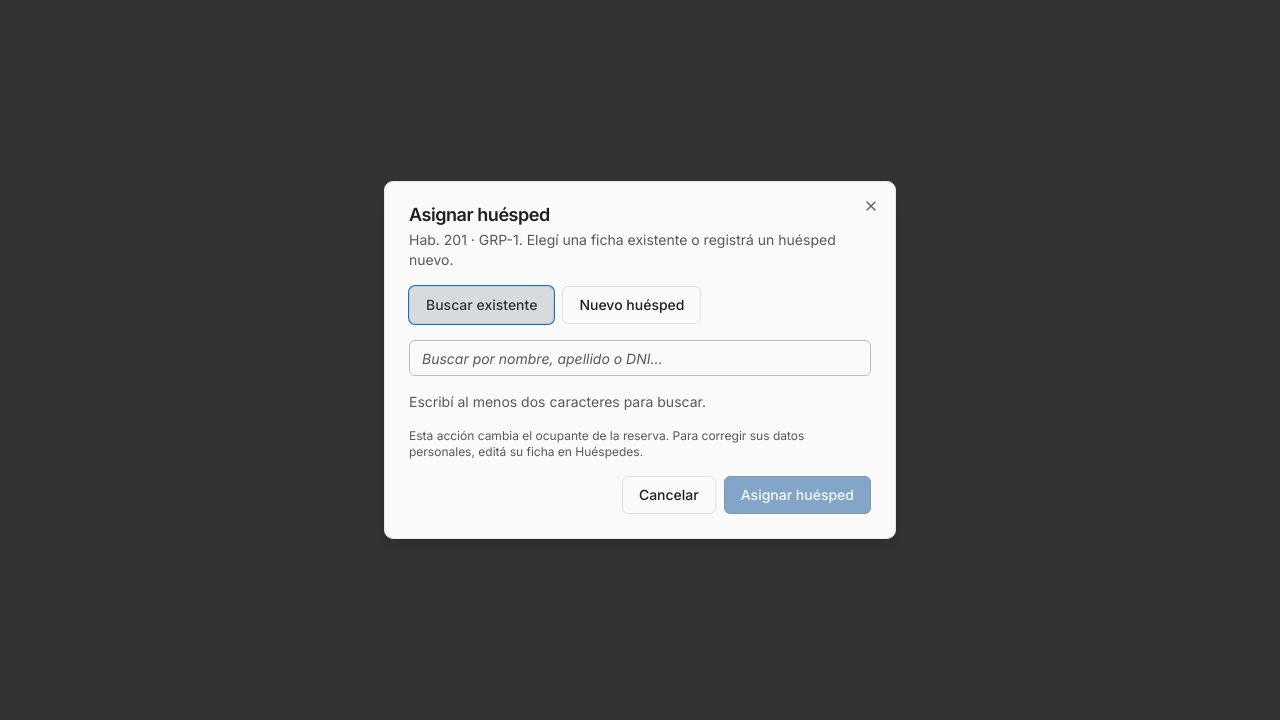
Test case: Selector de ocupante de grupo › conserva el selector y muestra el error cuando la asignación falla
Step 1. Type "Juan" into the field named "Buscar huésped" → (640, 358), box [409,340,871,376]
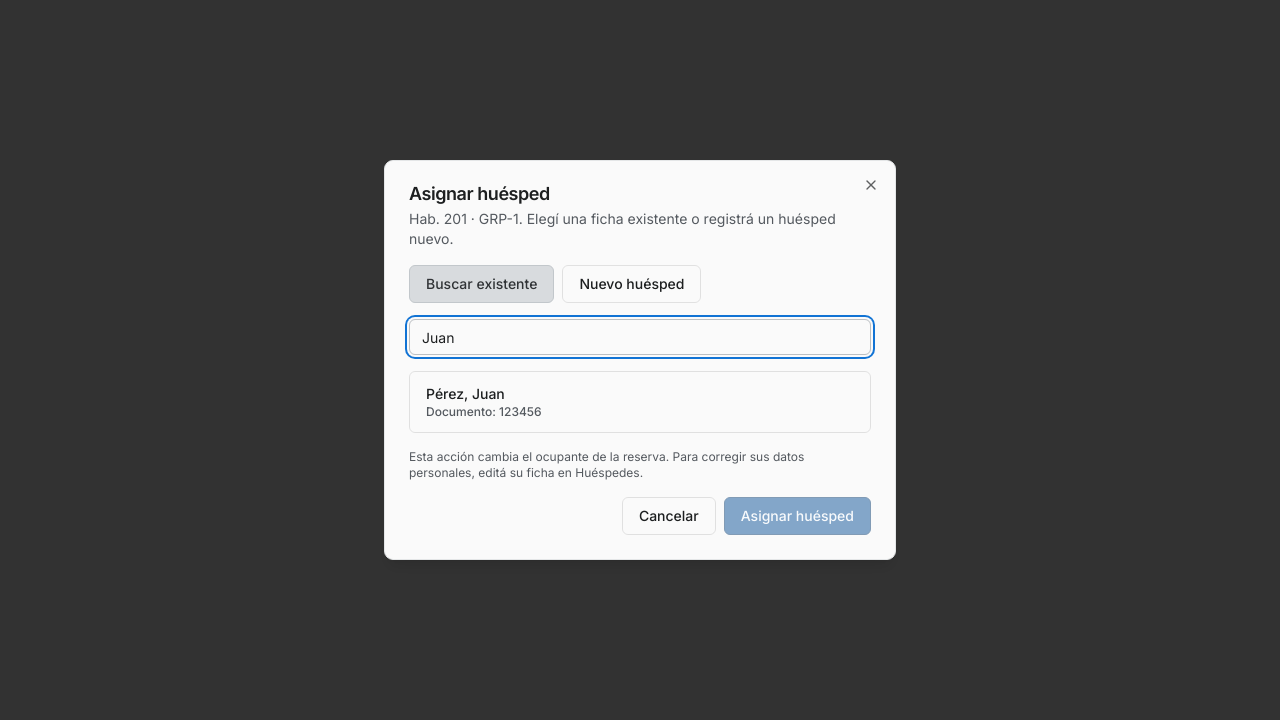
Step 2. Click the button "Pérez, Juan Documento: 123456" → (445, 394), box [409,371,871,433]
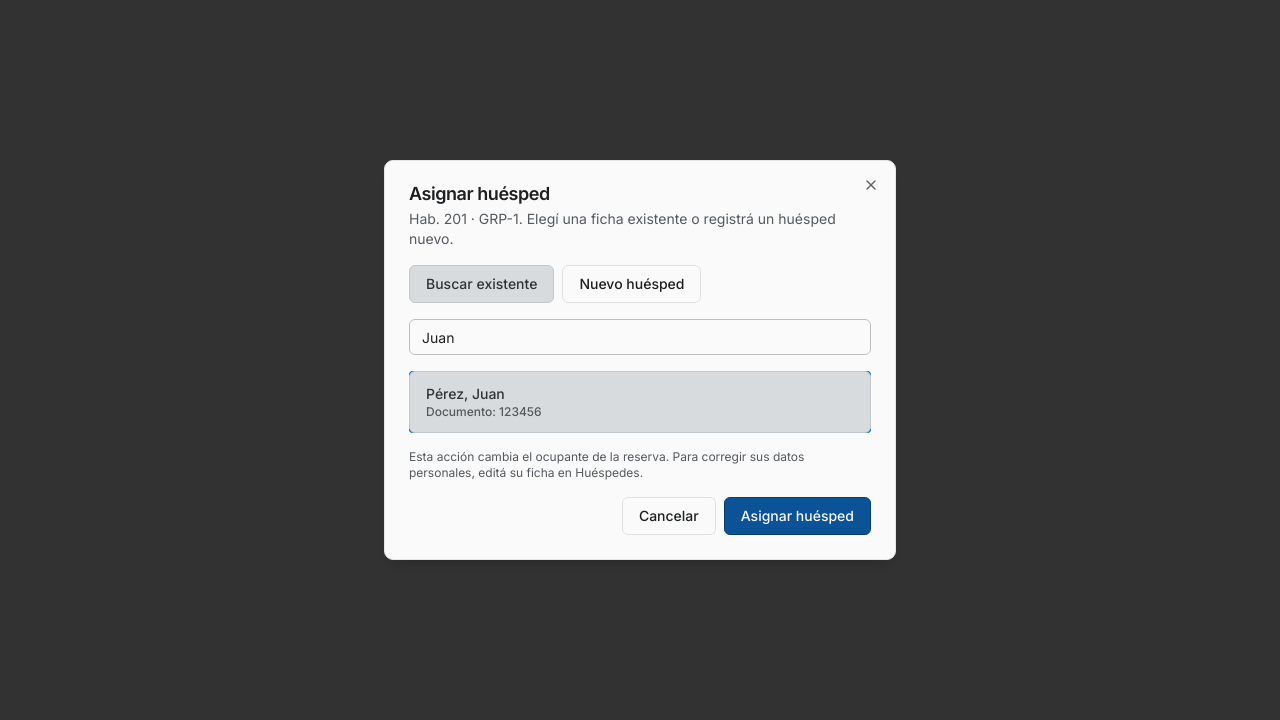
Step 3. Click the button "Asignar huésped" → (797, 516), box [724,497,871,535]
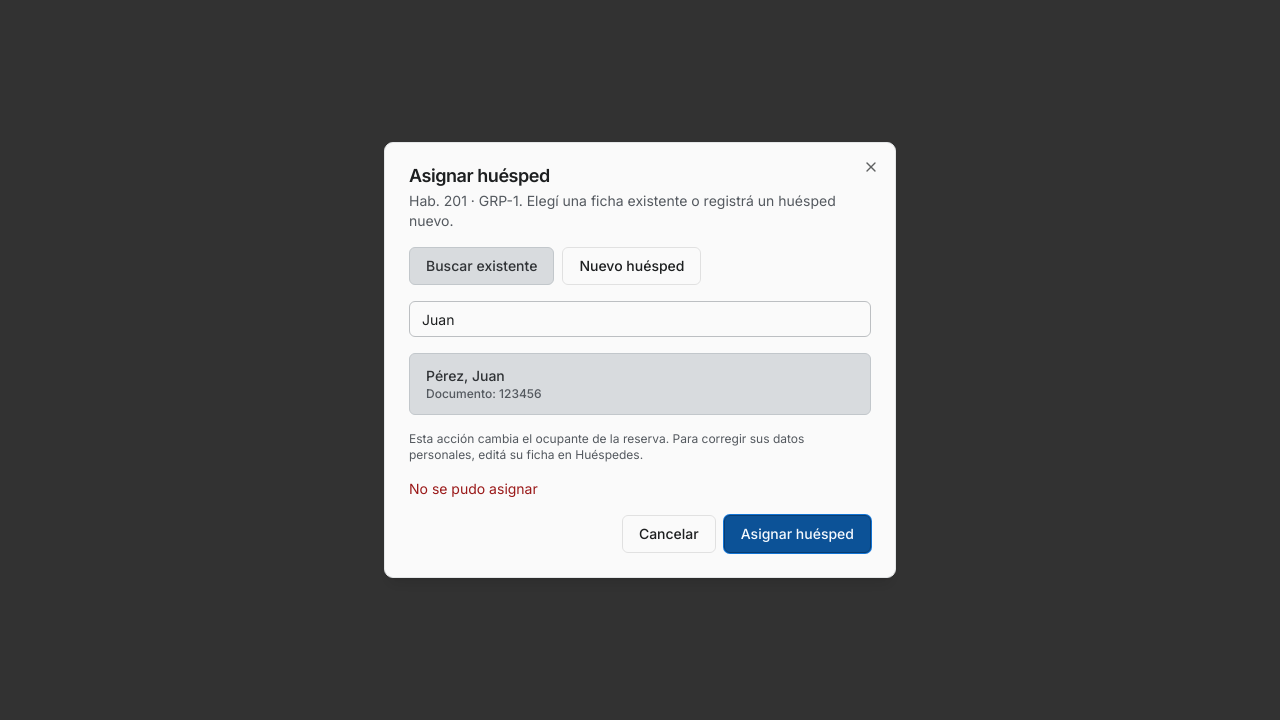
Now the message reads "No se pudo asignar", box [409,480,538,497]
